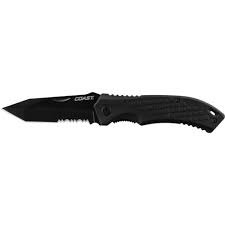knife: (1, 87, 225, 142)
